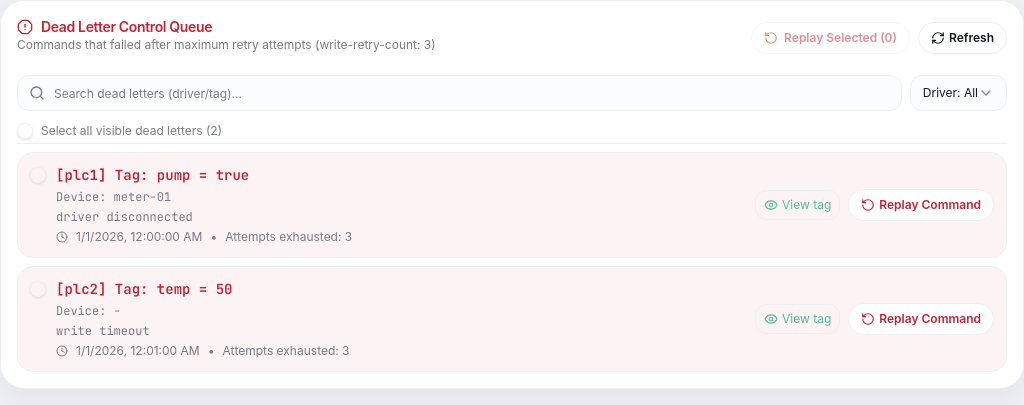
Test: DeadLetterReplayList — search & driver filter › the search input narrows the rendered rows
Check: the text "[plc1] Tag: pump = true" is shown, box [56,166,249,184]
Check: the text "[plc2] Tag: temp = 50" is shown, box [56,280,232,298]
Type "pump" into the field with placeholder "Search dead letters (driver/tag)…" at (459, 93), box [17,75,902,111]
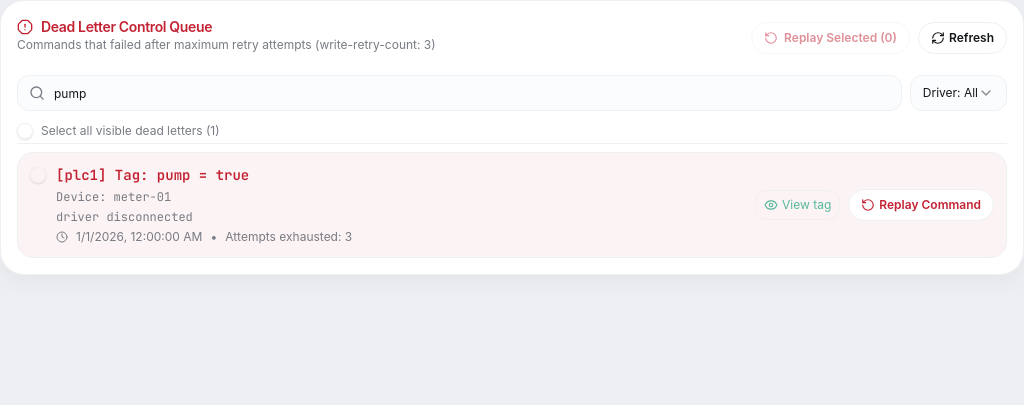
Check: the text "[plc1] Tag: pump = true" is shown, box [56,166,249,184]
Check: the text "[plc2] Tag: temp = 50" is gone
